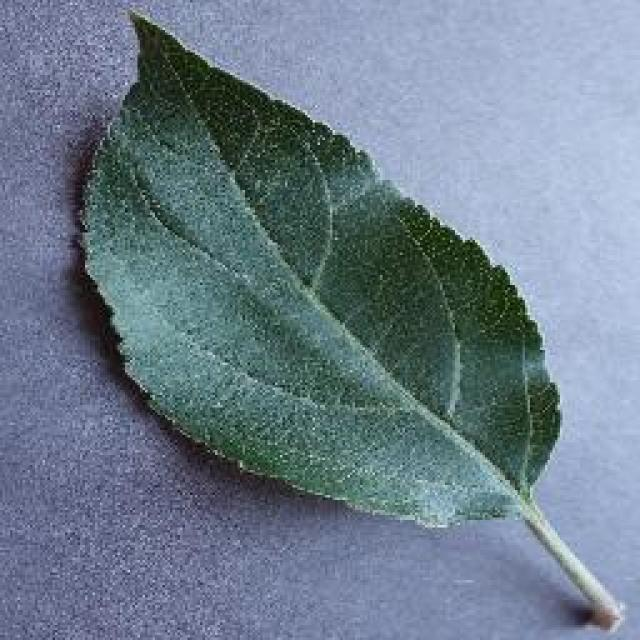apple healthy: (73, 2, 625, 632)
